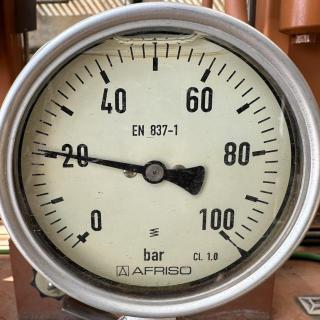gauge: (0, 0, 320, 320), (194, 206, 246, 254), (63, 206, 109, 254), (141, 159, 167, 185), (32, 144, 48, 156)
